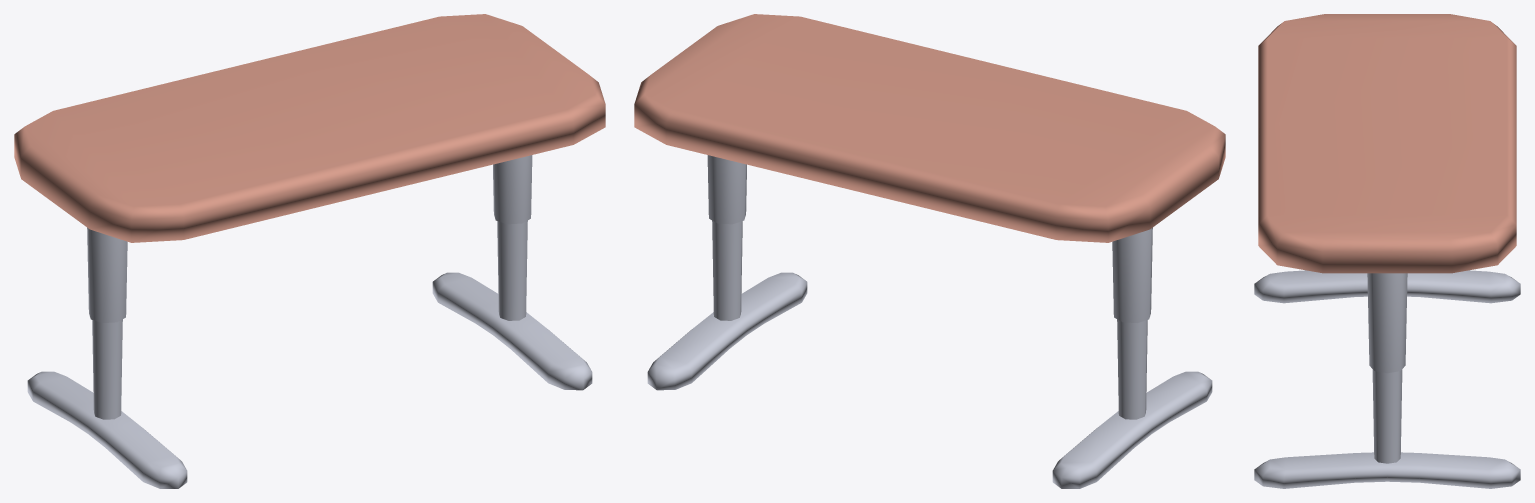
The model's file is table_a_01.glb.
3 views of the same model, side by side, from view 1: azimuth 30°, elevation 25°; view 2: azimuth 150°, elevation 25°; view 3: azimuth 270°, elevation 25° (orthographic). The views are drawn at different scales.
Visible parts, largest first — view 1: mesh_table_a_01; view 2: mesh_table_a_01; view 3: mesh_table_a_01.
Boxes of the visible parts, <box> form: mesh_table_a_01: <box>14,14,605,488</box>; mesh_table_a_01: <box>634,14,1225,488</box>; mesh_table_a_01: <box>1254,14,1520,488</box>.
Bounding box in the file's own units: 1.85 × 0.9656 × 0.8946.
